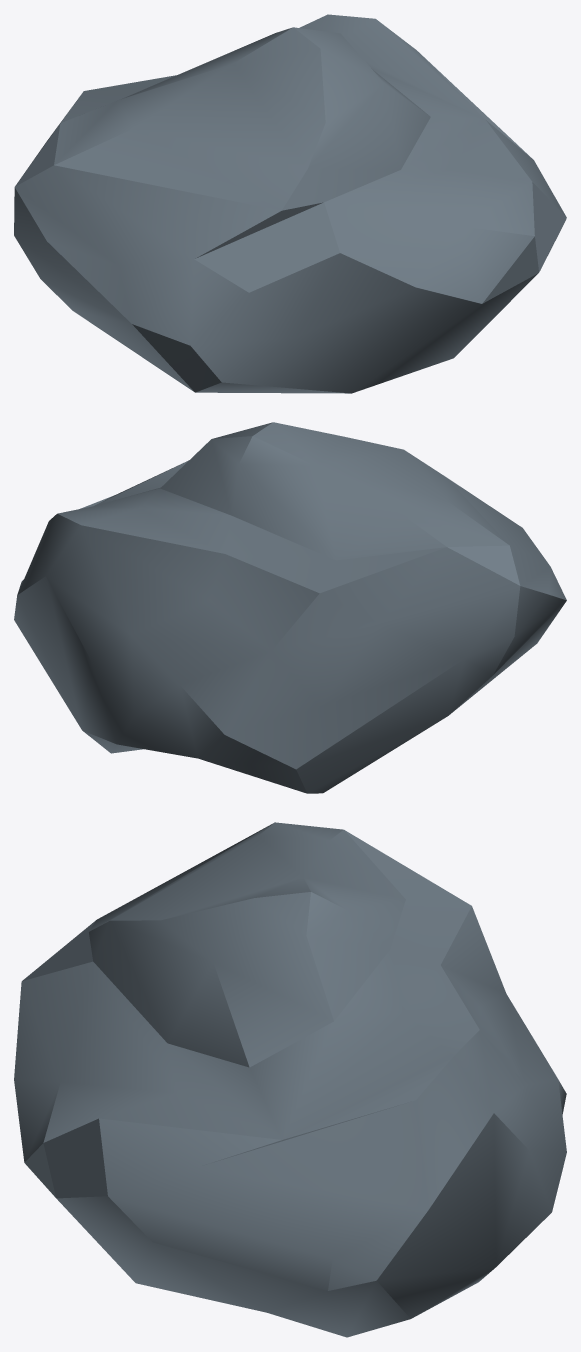
File: Roca_02.fbx
The picture shows the model from 3 angles, top to bottom: view 1: azimuth 30°, elevation 25°; view 2: azimuth 150°, elevation 25°; view 3: azimuth 270°, elevation 25°; orthographic projection. The views are drawn at different scales.
Visible parts, largest first — view 1: Roca_02; view 2: Roca_02; view 3: Roca_02.
Boxes of the visible parts, left/top/right/bottom form: Roca_02: left=14, top=14, right=566, bottom=393; Roca_02: left=14, top=422, right=566, bottom=793; Roca_02: left=14, top=822, right=566, bottom=1337.
Bounding box in the file's own units: 4.52 × 2.68 × 3.63.
